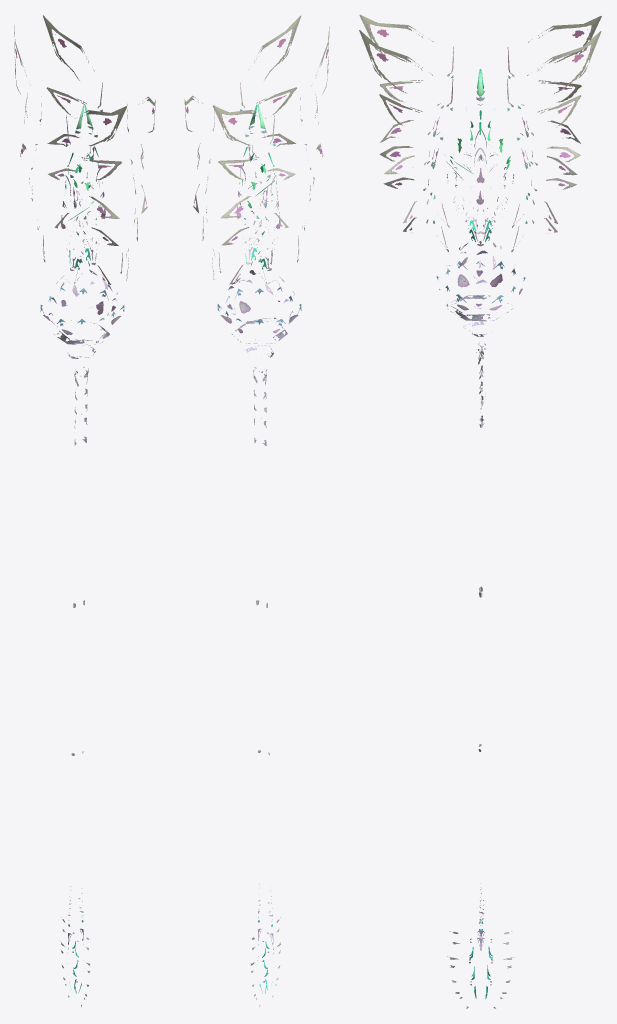
File: 16pfz_1e62b727.glb
The picture shows the model from 3 angles, left to right: view 1: azimuth 30°, elevation 25°; view 2: azimuth 150°, elevation 25°; view 3: azimuth 270°, elevation 25°; orthographic projection. The views are drawn at different scales.
Bounding box in the file's own units: 0.2978 × 4.02 × 0.8967.
Materials: 1 (1 with a texture image).
